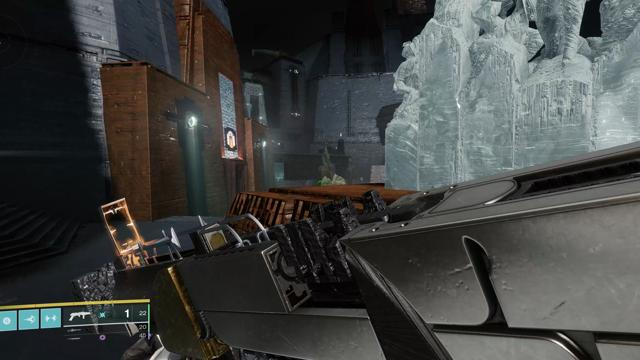worship: (227, 131, 235, 148)
